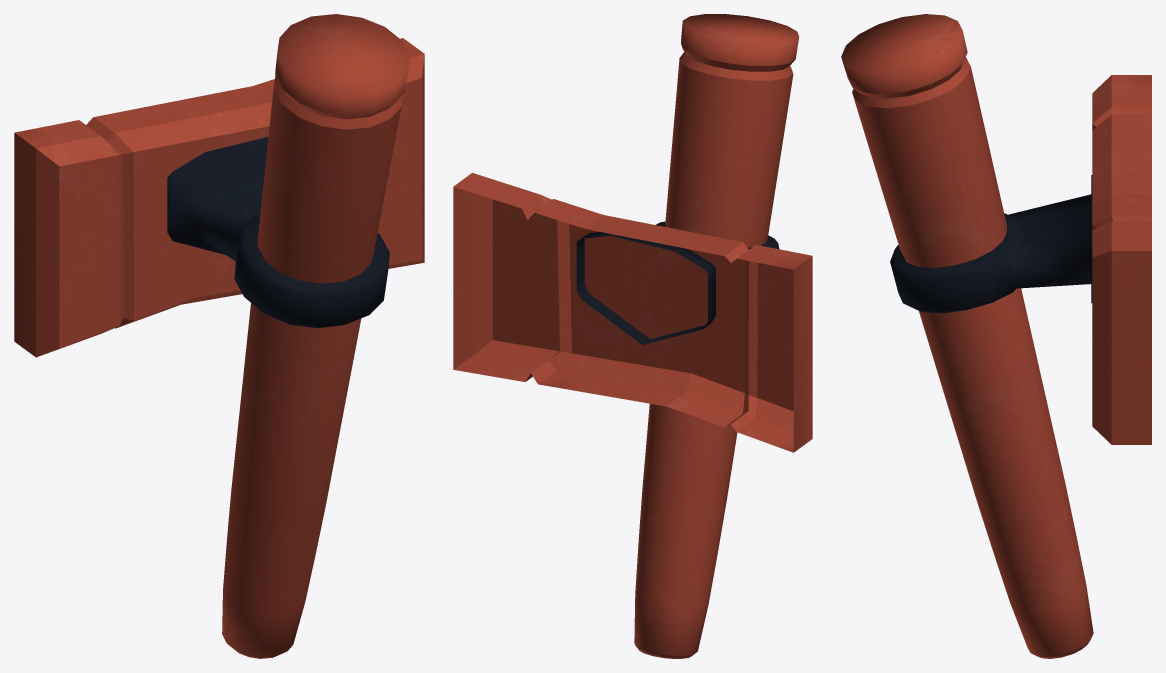
The model's file is Torches.fbx.
3 renders of one model, left to right at view 1: azimuth 30°, elevation 25°; view 2: azimuth 150°, elevation 25°; view 3: azimuth 270°, elevation 25°, orthographic. The views are drawn at different scales.
Visible parts, largest first — view 1: Cube.001; view 2: Cube.001; view 3: Cube.001.
Boxes of the visible parts, bbox=[...] form: Cube.001: bbox=[14, 14, 424, 658]; Cube.001: bbox=[453, 14, 812, 658]; Cube.001: bbox=[841, 14, 1151, 658].
Bounding box in the file's own units: 0.6043 × 0.9949 × 0.451.
